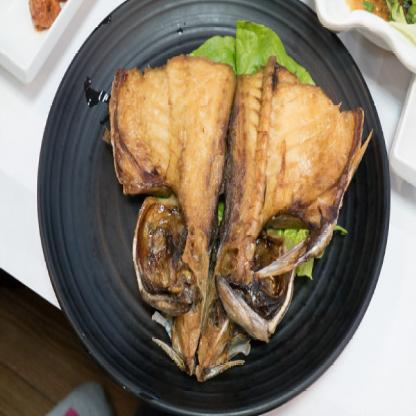Peixe: (95, 46, 384, 388)
